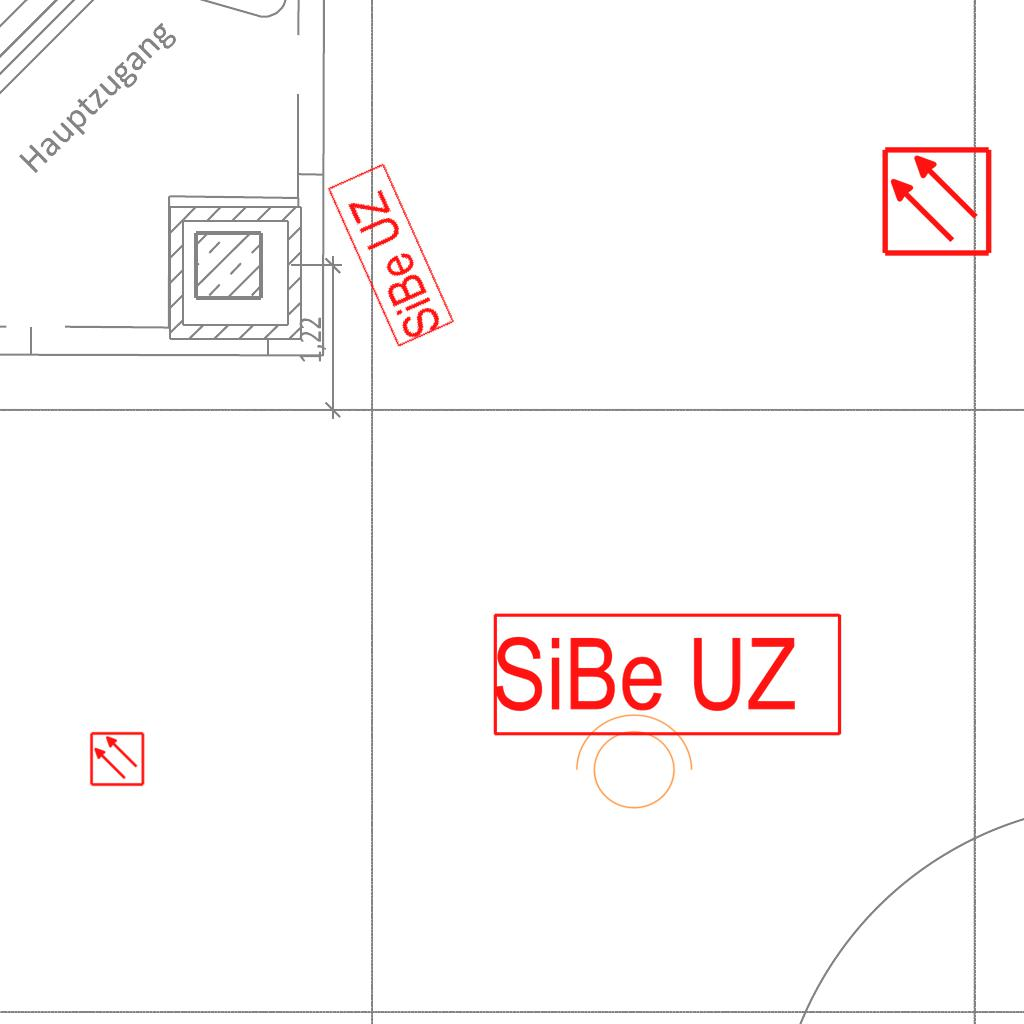RMO_Rauchmelder_optischer: (880, 145, 993, 258), (89, 731, 145, 787)
Scheinwerfer_fuer_Alarmbeleuchtung: (565, 709, 697, 821)
Zentrale_Sicherheitsbeleuchtung: (490, 610, 847, 740), (325, 159, 457, 350)
